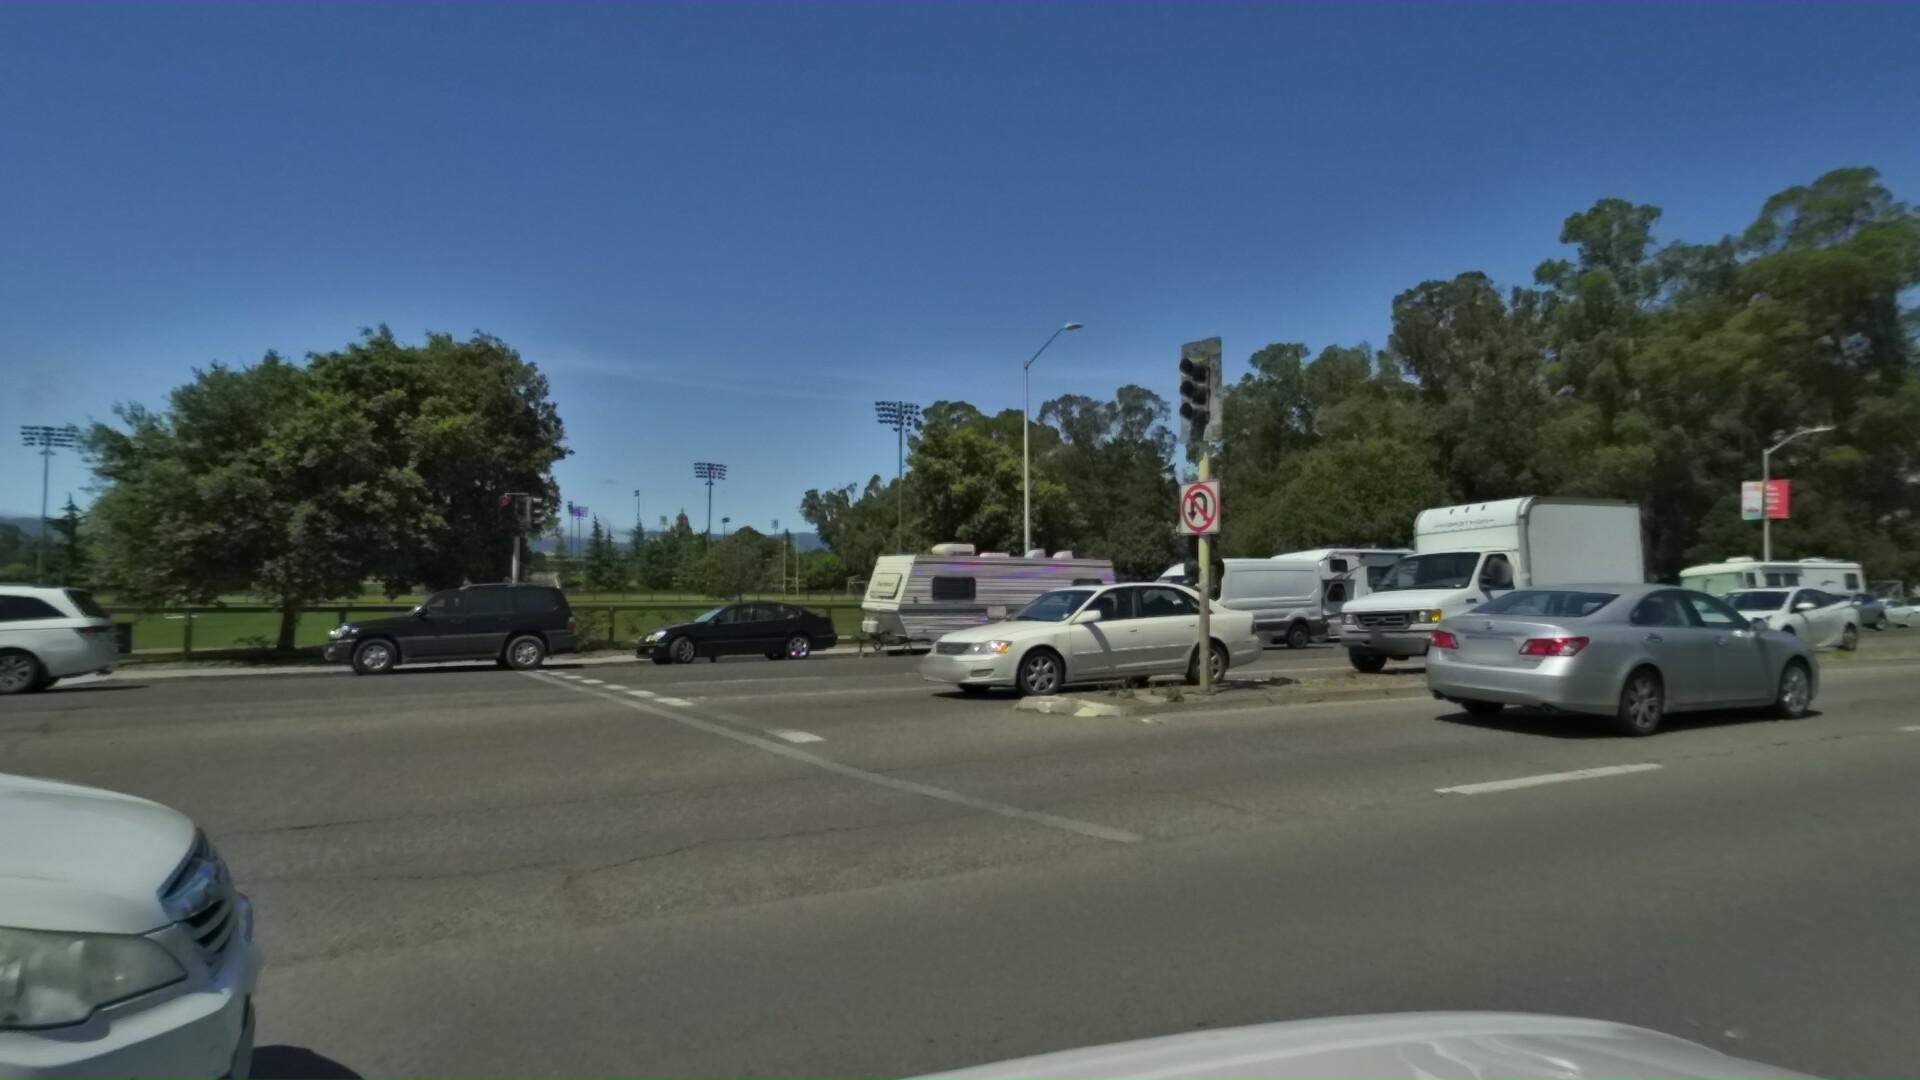car: (1396, 580, 1851, 756), (858, 574, 1244, 717), (280, 578, 562, 680), (1089, 553, 1294, 649), (1639, 579, 1851, 665), (597, 599, 803, 670), (0, 567, 57, 707), (1760, 589, 1880, 632), (1811, 597, 1908, 634), (1873, 582, 1920, 626)
other_vehicle: (806, 531, 1116, 665), (1215, 535, 1478, 651), (1643, 545, 1873, 640)
truck: (1284, 477, 1639, 687)
